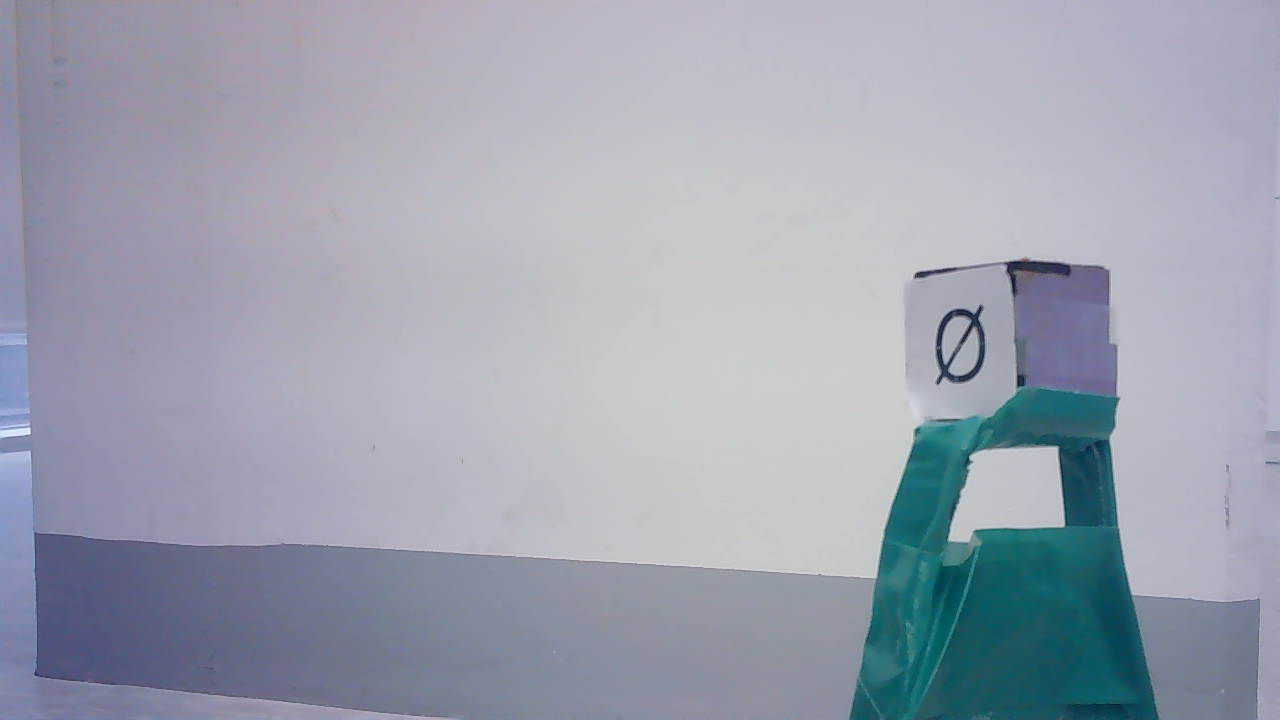box: (893, 264, 1022, 426)
